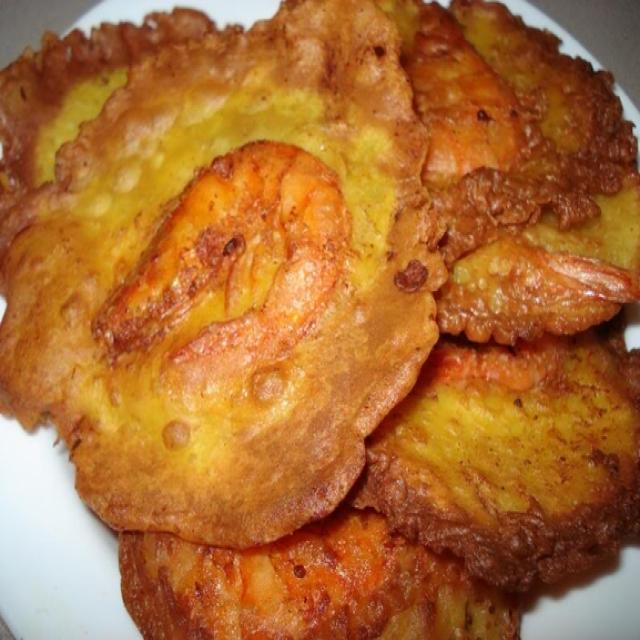炸货点心: (6, 1, 626, 621)
熟制海鲜: (6, 1, 626, 621)
